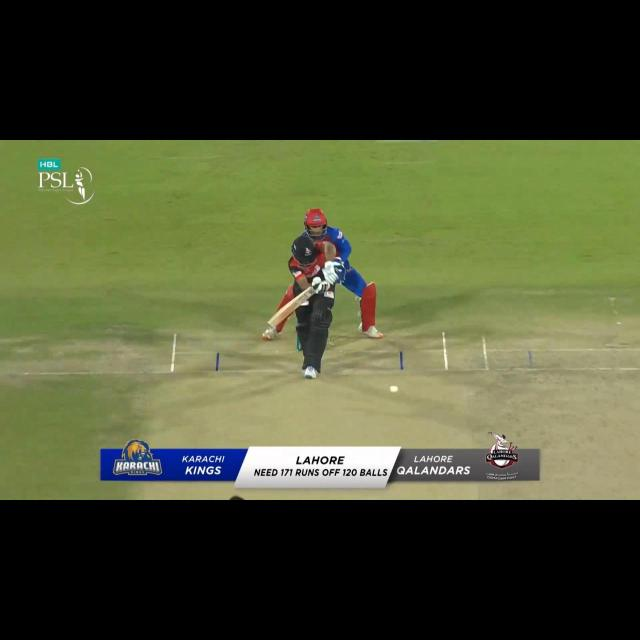bat: (268, 290, 314, 329)
toe: (266, 318, 277, 330)
